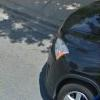Car: (34, 7, 100, 100)
